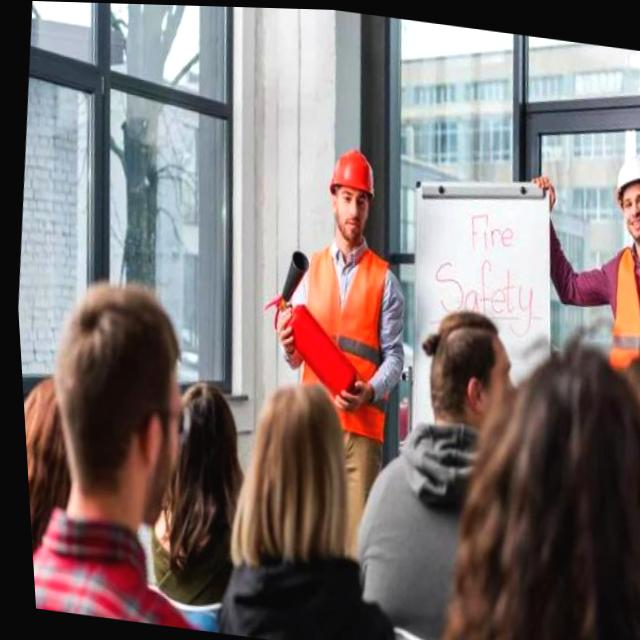FireExtinguisher: (244, 236, 373, 408)
